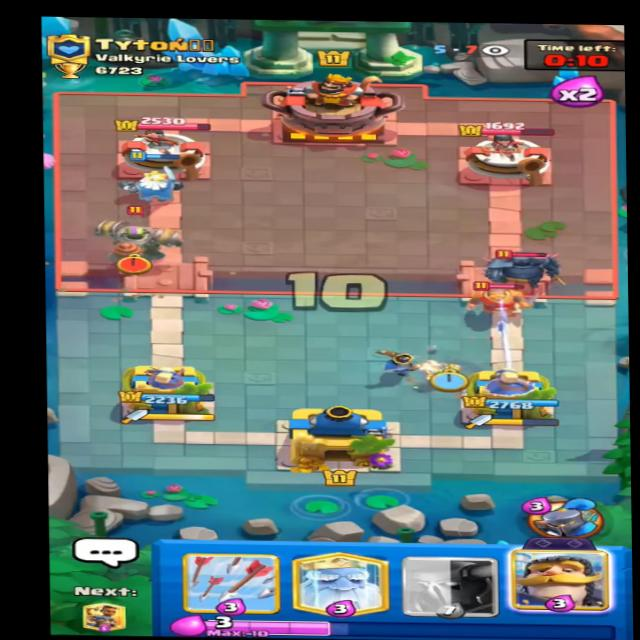Goblinmachine: (90, 204, 182, 275)
Knight: (466, 271, 532, 319)
Pekka: (481, 239, 570, 285)
